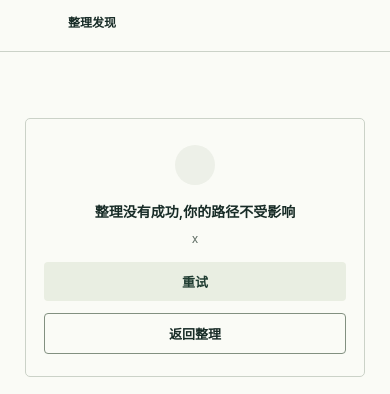
it: SummaryView(成果整理页,FR-E07 报告态:query.runId 轮询) › 重试遇 429:配额 envelope 文案页内错误卡展示,不停留 spinner
Click the button with class "err-retry": (195, 281) [44,262,346,301]
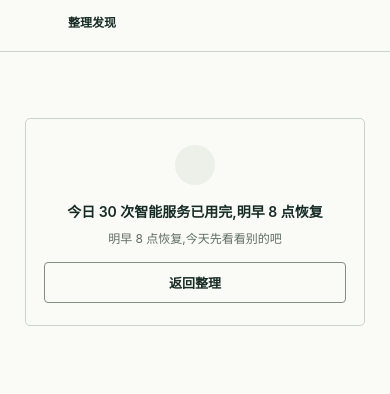
Expected: the element with class "err-card" shows "今日 30 次智能服务已用完", [67,203,323,220]
